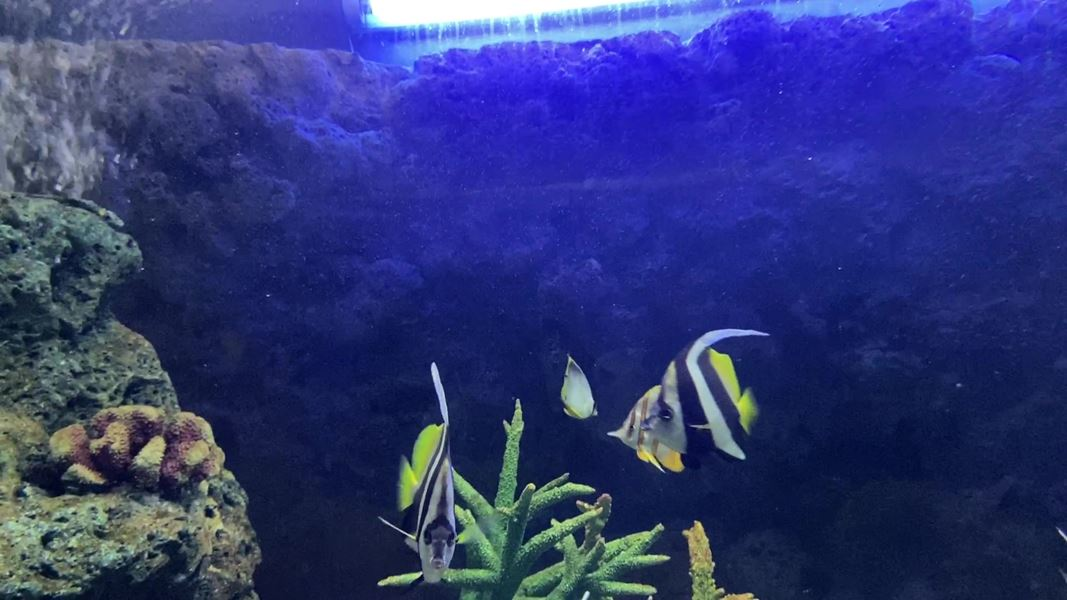Black-backed butterflyfish: (551, 349, 607, 425)
